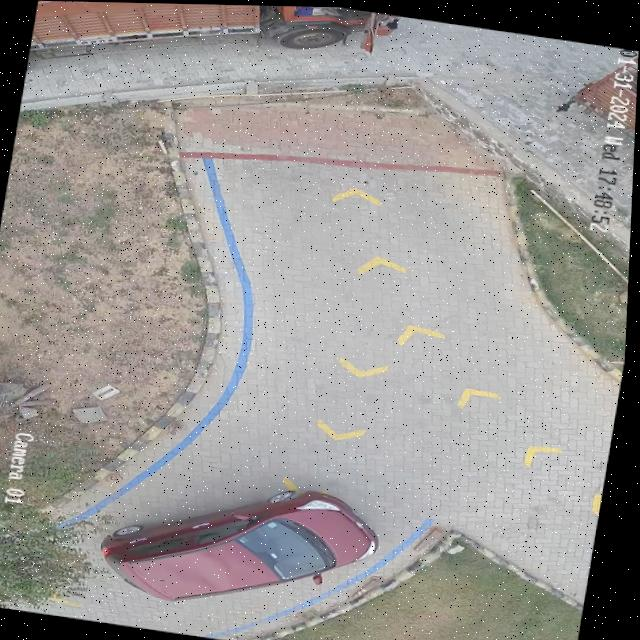car: (106, 488, 381, 600)
